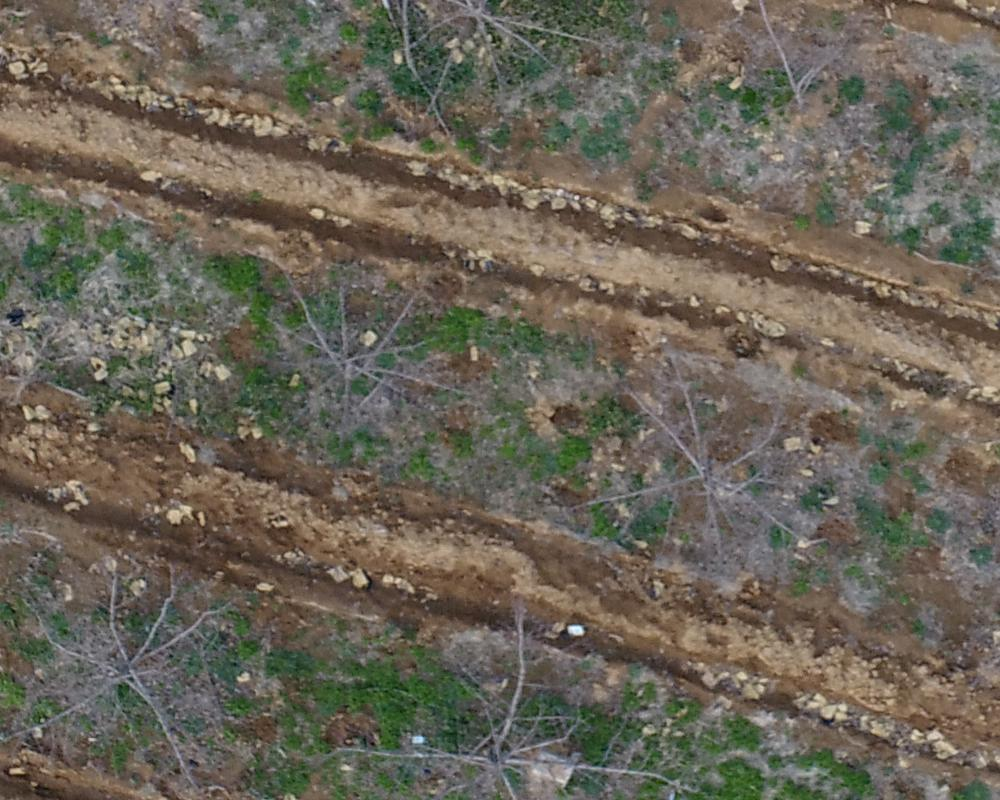apple: (298, 614, 692, 790), (565, 346, 839, 564), (10, 568, 227, 790), (244, 264, 462, 446), (333, 10, 608, 135), (699, 10, 864, 147)
